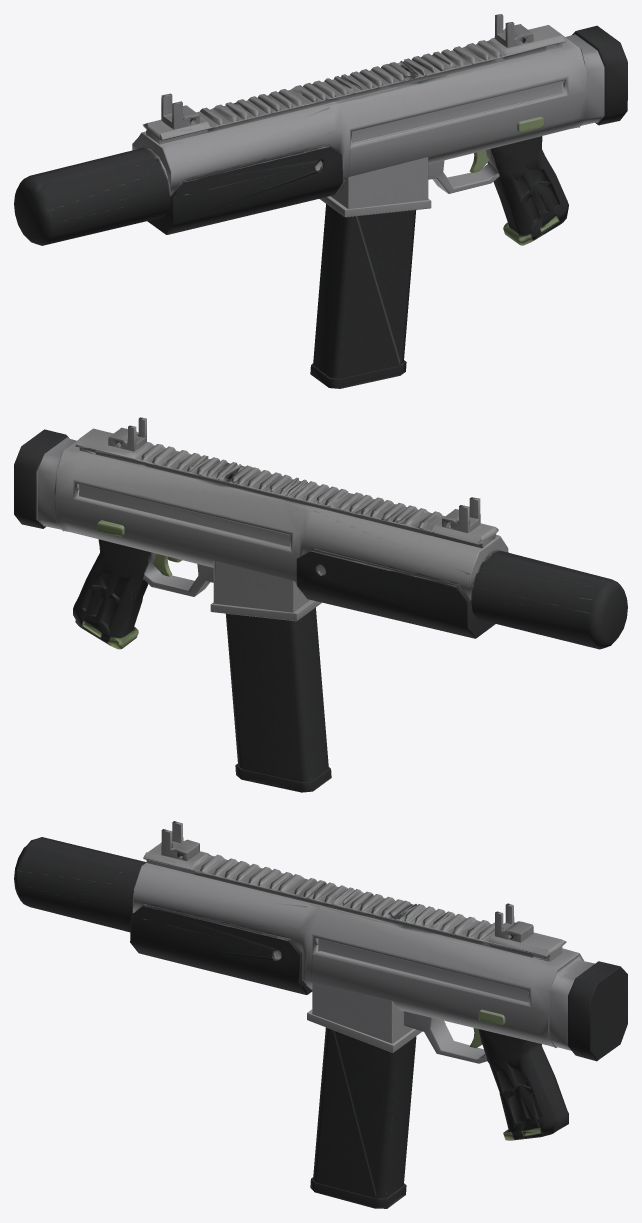
Rendered from smg_viper.glb.
3 views of the same model, one above another, from view 1: azimuth 30°, elevation 25°; view 2: azimuth 150°, elevation 25°; view 3: azimuth 330°, elevation 25° (orthographic).
Size of the model in its own units: 0.9575 by 0.5039 by 0.1265.
Materials: 1 (1 with a texture image).
